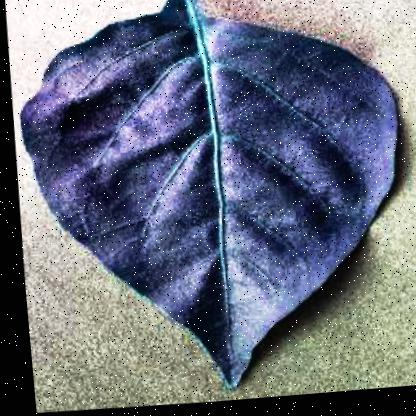Healthy: (1, 0, 415, 409)
